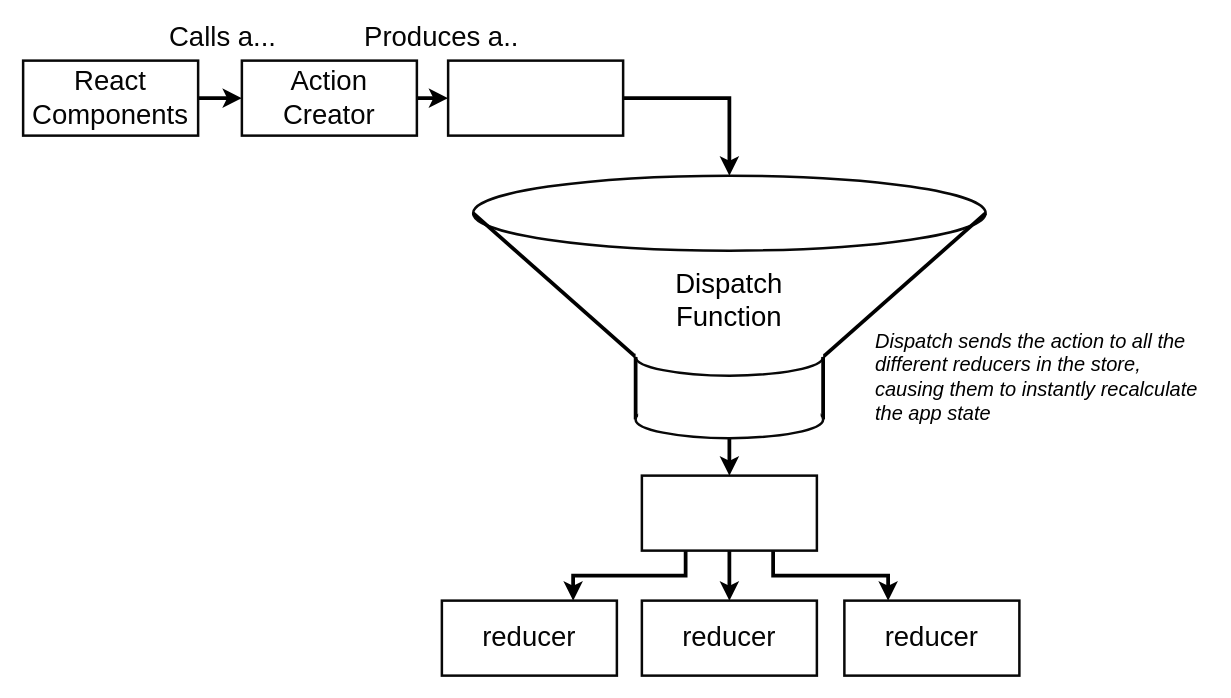
This 1231x698 diagram has some shape labels left out. Each missing label, with the centre of its shape:
Action: pixel 535 97
store: pixel 729 512
